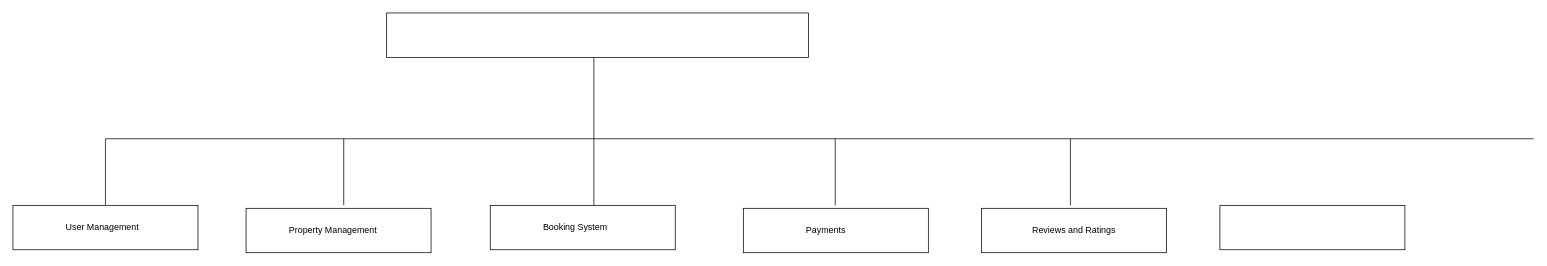
The diagram is 1547 pixels wide and 266 high, and some of its shapes have lost their labels. The box of each missing label's shape, as (x1, y1, x2, y2) in pixels:
Backend Features: (386, 12, 808, 57)
Notifications: (1219, 205, 1405, 250)
